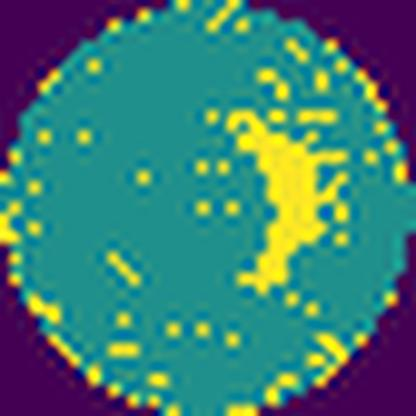Loc: (226, 110, 350, 302)
